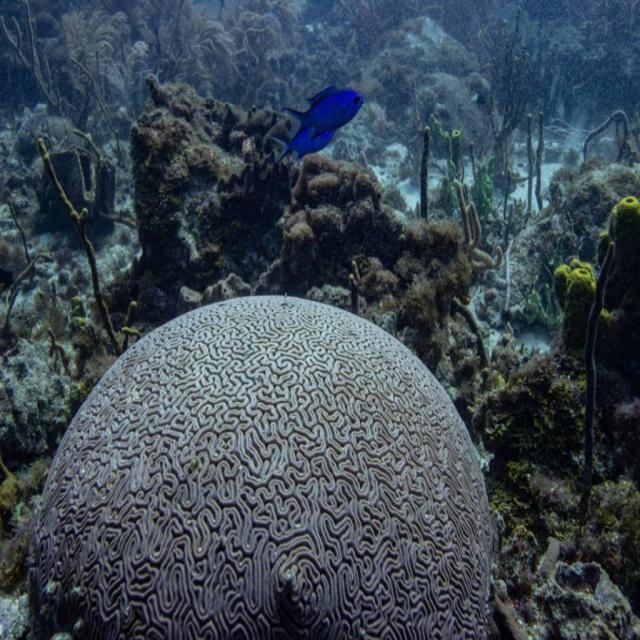Coral: (29, 295, 495, 640)
